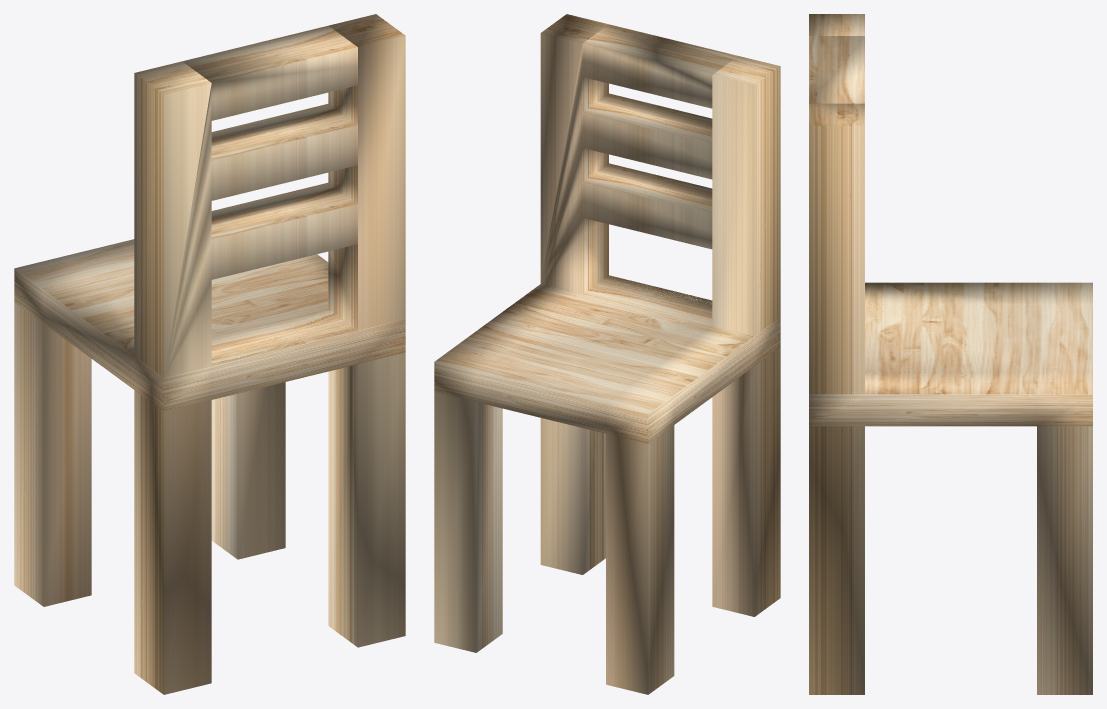
File: DinningChair.obj
3 renders of one model, left to right at view 1: azimuth 30°, elevation 25°; view 2: azimuth 150°, elevation 25°; view 3: azimuth 270°, elevation 25°, orthographic. The views are drawn at different scales.
Visible parts, largest first — view 1: dinning_room_chair; view 2: dinning_room_chair; view 3: dinning_room_chair.
Part boxes in pixels (bbox=[...]): dinning_room_chair: bbox=[14, 14, 405, 694]; dinning_room_chair: bbox=[434, 14, 780, 694]; dinning_room_chair: bbox=[809, 14, 1092, 694].
Bounding box in the file's own units: 39 × 92.56 × 41.83.
